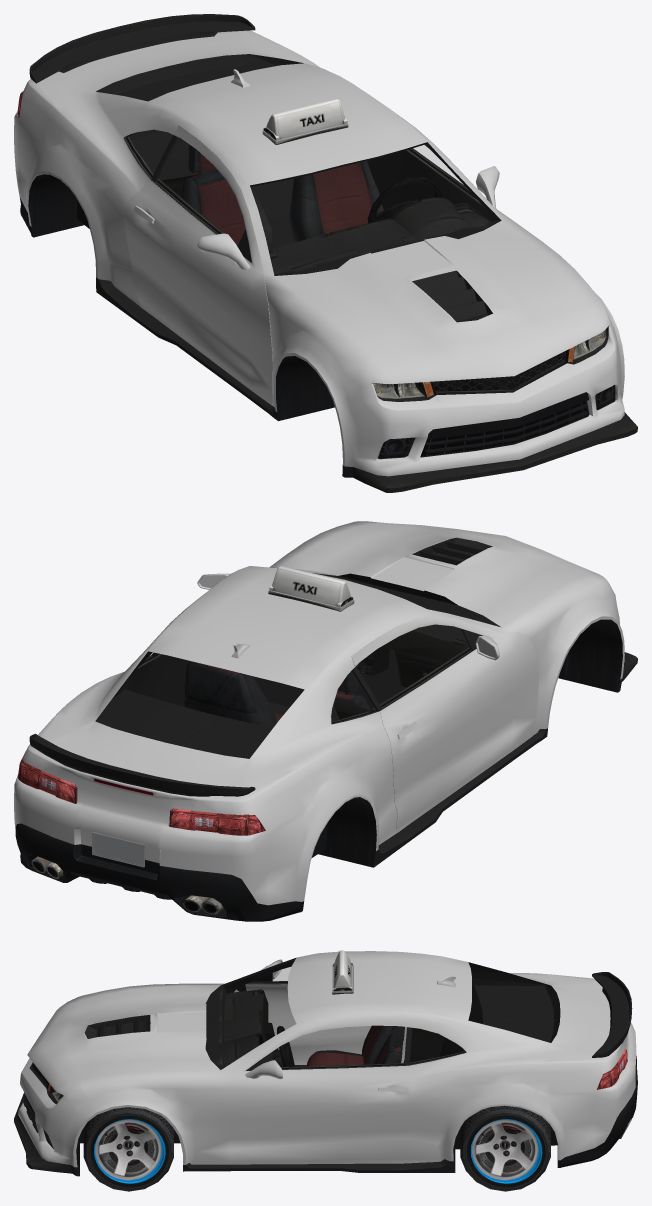
File: Taxi_04_Fordmustang.FBX
The picture shows the model from 3 angles, top to bottom: view 1: azimuth 30°, elevation 25°; view 2: azimuth 150°, elevation 25°; view 3: azimuth 270°, elevation 25°; orthographic projection. The views are drawn at different scales.
Visible parts, largest first — view 1: Main_body, taxi_ford mustang, door, top light002, styring; view 2: Main_body, door, taxi_ford mustang, back_light, top light002; view 3: Main_body, taxi_ford mustang, FL_Wheel_LOD010, FL_Wheel_LOD011, door, top light002, back_light.
Boxes of the visible parts, x1=… form: Main_body: x1=14, y1=14, x2=637, y2=492; taxi_ford mustang: x1=96, y1=54, x2=501, y2=275; door: x1=124, y1=124, x2=272, y2=405; top light002: x1=262, y1=98, x2=348, y2=144; styring: x1=367, y1=176, x2=441, y2=223; Main_body: x1=14, y1=521, x2=637, y2=921; door: x1=351, y1=615, x2=538, y2=832; taxi_ford mustang: x1=95, y1=573, x2=500, y2=758; back_light: x1=18, y1=759, x2=265, y2=835; top light002: x1=268, y1=566, x2=354, y2=611; Main_body: x1=14, y1=951, x2=637, y2=1176; taxi_ford mustang: x1=205, y1=958, x2=560, y2=1070; FL_Wheel_LOD010: x1=460, y1=1106, x2=550, y2=1191; FL_Wheel_LOD011: x1=83, y1=1107, x2=173, y2=1191; door: x1=245, y1=959, x2=406, y2=1064; top light002: x1=332, y1=950, x2=353, y2=994; back_light: x1=597, y1=1049, x2=627, y2=1089.
Size of what is drawn, in the model's own units: 214 by 156 by 503.
